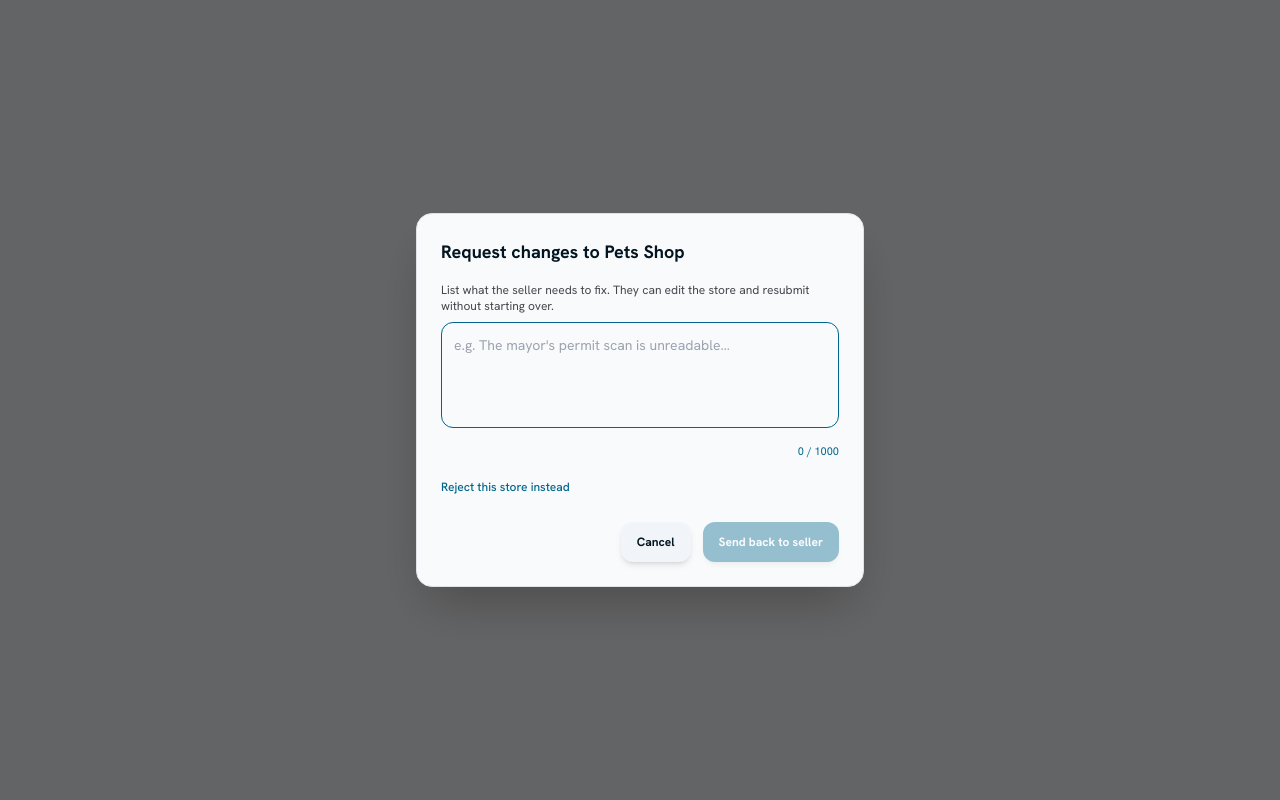
Test: switching to the revision path › offers a way back, so a change of mind does not cost the typed note
In the text box: (640, 375) [441, 322, 839, 428], type "The permit scan is unreadable"
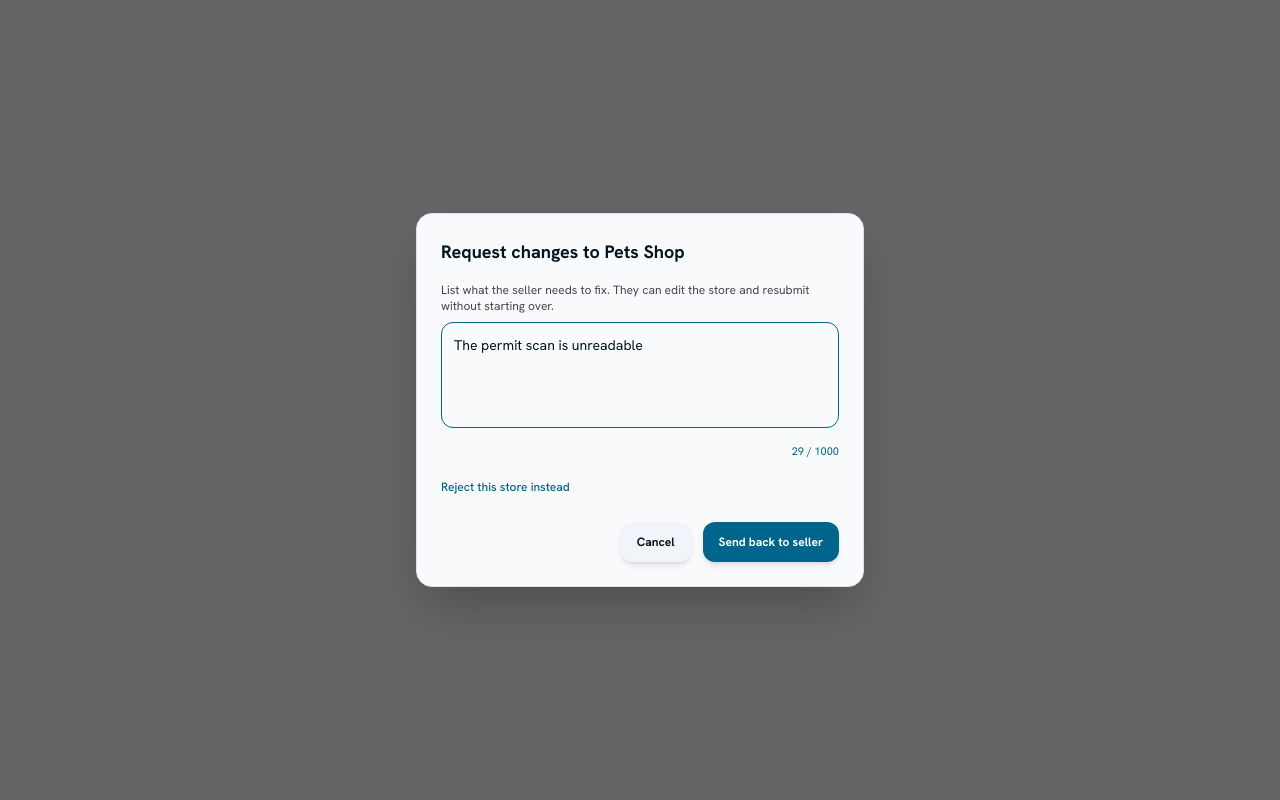
Click the button "Reject this store instead": (505, 487) [441, 479, 570, 495]
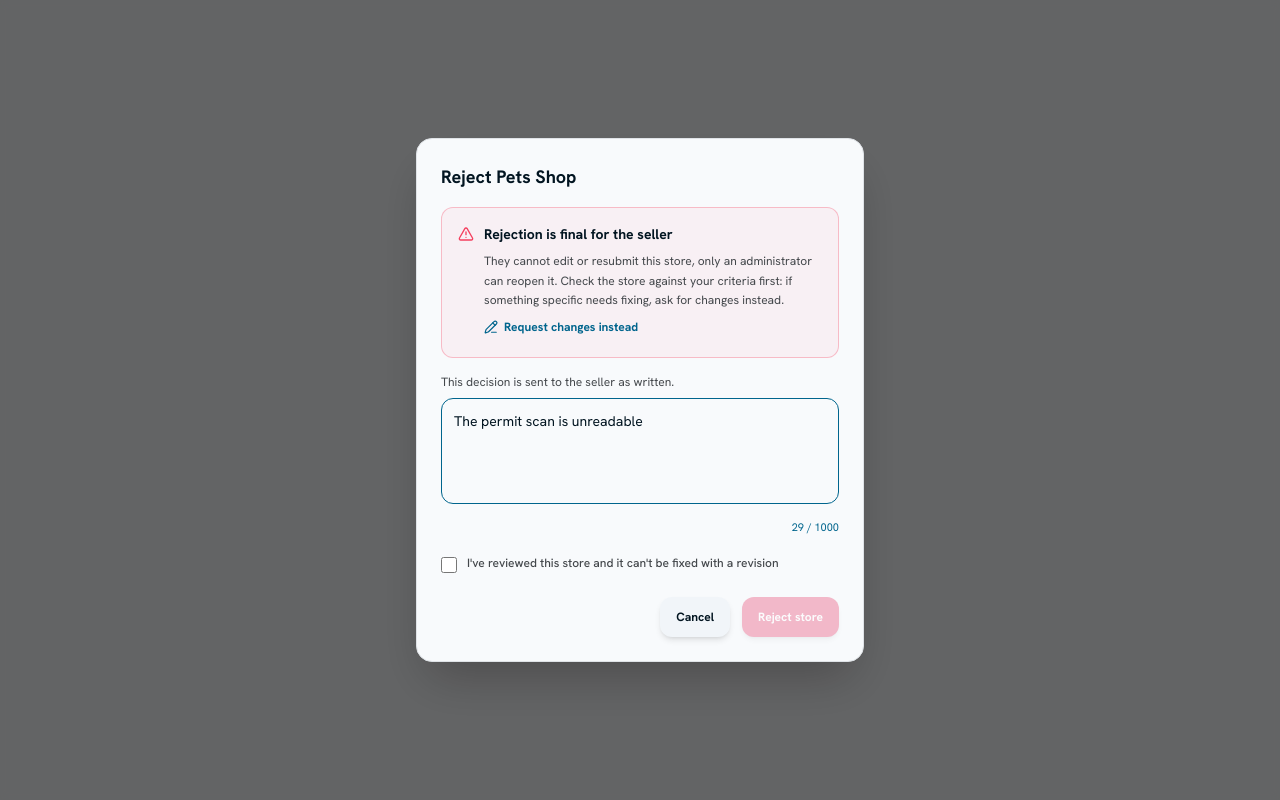
expect the text "Rejection is final for the seller" is shown: met, box [484, 225, 673, 243]
